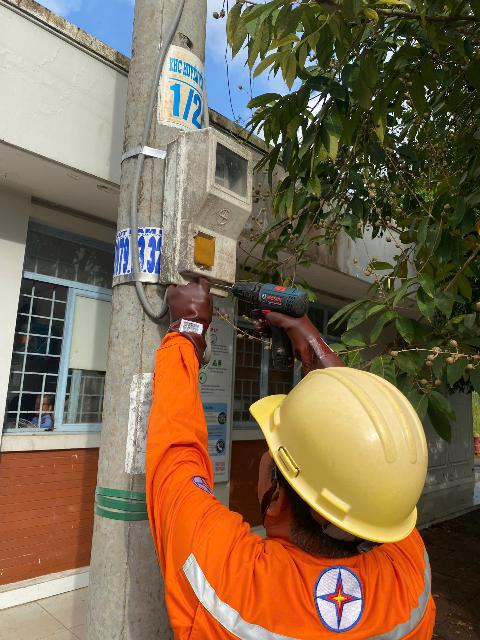gloves: (149, 252, 229, 375), (263, 292, 348, 380)
helmet: (247, 338, 440, 553)
